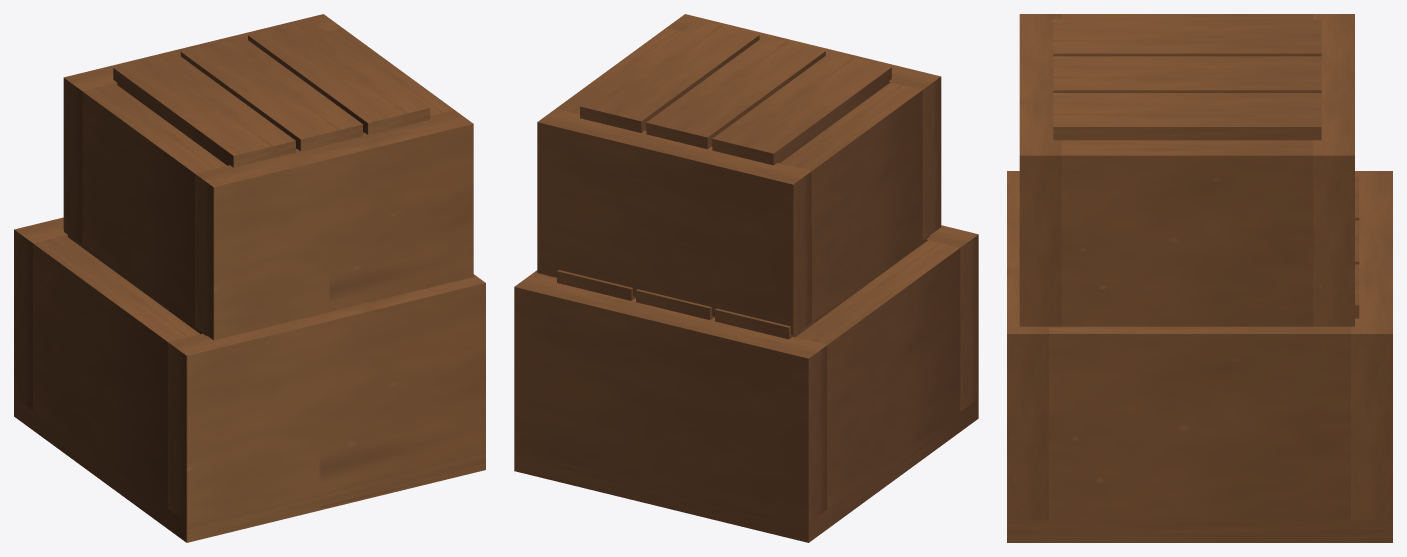
The picture shows the model from 3 angles, left to right: view 1: azimuth 30°, elevation 25°; view 2: azimuth 150°, elevation 25°; view 3: azimuth 270°, elevation 25°; orthographic projection. The views are drawn at different scales.
Parts seen in each view (by area): view 1: terrain_crate.3; view 2: terrain_crate.3; view 3: terrain_crate.3.
Boxes of the visible parts, box(x1,y1,x2,y2) form: terrain_crate.3: box(14, 14, 485, 542); terrain_crate.3: box(514, 14, 978, 542); terrain_crate.3: box(1007, 14, 1392, 542).
Bounding box in the file's own units: 0.92 × 1.05 × 0.92.
Materials: 1 (1 with a texture image).
